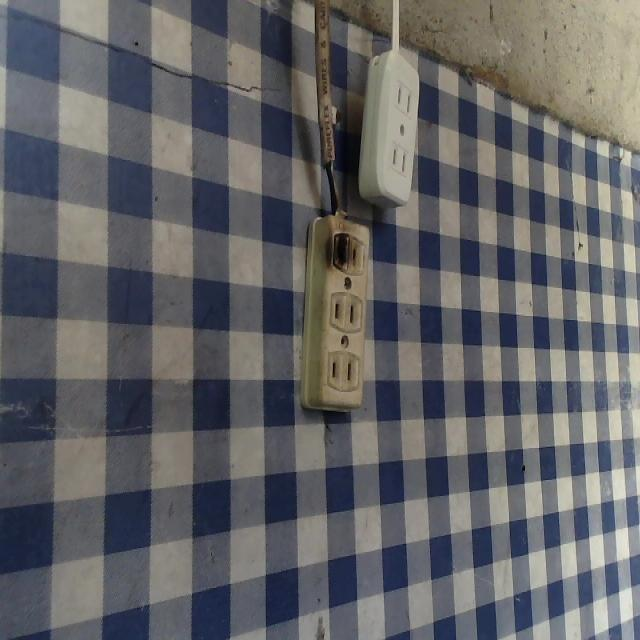-: (327, 220, 356, 275)
